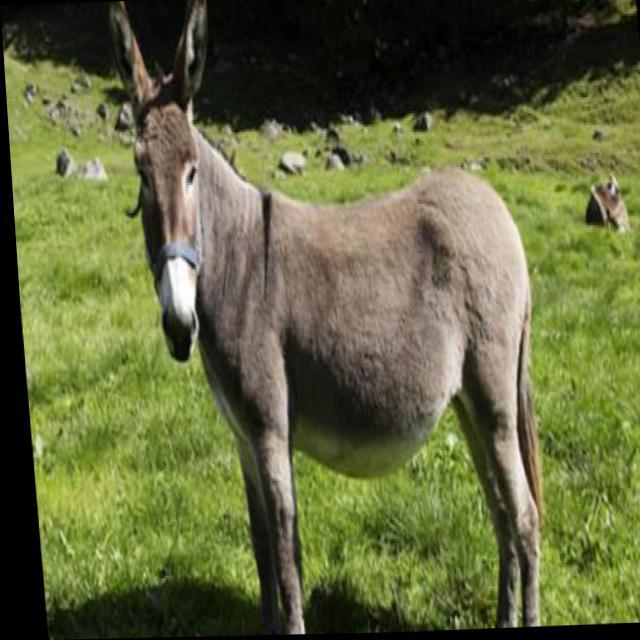Donkey: (105, 0, 551, 638)
